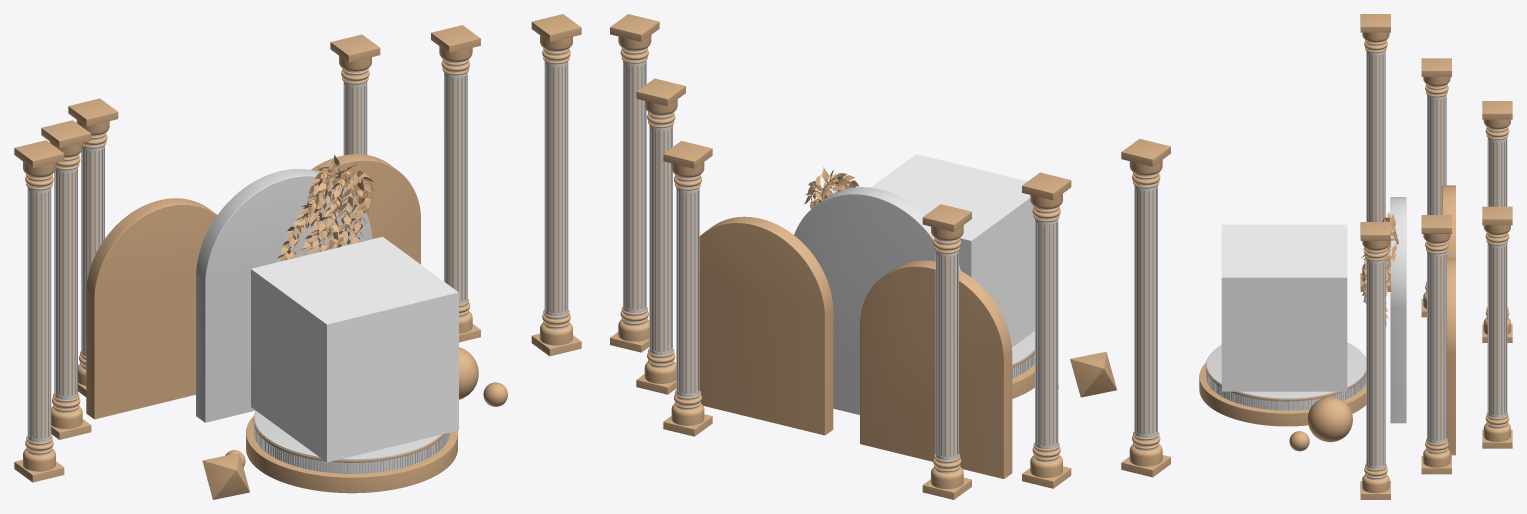
Rendered from podium_roman_scene.glb.
3 views of the same model, side by side, from view 1: azimuth 30°, elevation 25°; view 2: azimuth 150°, elevation 25°; view 3: azimuth 270°, elevation 25° (orthographic). The views are drawn at different scales.
Parts seen in each view (by area): view 1: Pillars, placeholder, Back_Wall_Gold, Back_Wall_White, Plant, Main_Cylinder_Gold, Main_Cylinder_White, Pyramid, Sphere_1, Main_Ring_Gold; view 2: Pillars, Back_Wall_Gold, Back_Wall_White, placeholder, Pyramid, Plant, Main_Cylinder_White; view 3: Pillars, placeholder, Back_Wall_White, Main_Cylinder_White, Back_Wall_Gold, Main_Cylinder_Gold, Sphere_1, Plant, Main_Ring_Gold.
Boxes of the visible parts, left/top/right/bottom form: Pillars: left=14, top=14, right=581, bottom=482; placeholder: left=251, top=236, right=458, bottom=462; Back_Wall_Gold: left=86, top=154, right=420, bottom=419; Back_Wall_White: left=196, top=169, right=372, bottom=422; Plant: left=276, top=154, right=374, bottom=262; Main_Cylinder_Gold: left=246, top=416, right=457, bottom=493; Main_Cylinder_White: left=254, top=411, right=449, bottom=473; Pyramid: left=202, top=453, right=249, bottom=499; Sphere_1: left=459, top=347, right=478, bottom=399; Main_Ring_Gold: left=253, top=411, right=445, bottom=462; Pillars: left=610, top=14, right=1170, bottom=499; Back_Wall_Gold: left=699, top=216, right=1012, bottom=478; Back_Wall_White: left=794, top=187, right=960, bottom=414; placeholder: left=871, top=154, right=1034, bottom=347; Pyramid: left=1070, top=352, right=1116, bottom=397; Plant: left=804, top=167, right=859, bottom=208; Main_Cylinder_White: left=1012, top=331, right=1034, bottom=378; Pillars: left=1360, top=14, right=1512, bottom=499; placeholder: left=1221, top=224, right=1347, bottom=391; Back_Wall_White: left=1390, top=197, right=1406, bottom=423; Main_Cylinder_White: left=1206, top=342, right=1366, bottom=410; Back_Wall_Gold: left=1442, top=185, right=1455, bottom=455; Main_Cylinder_Gold: left=1199, top=363, right=1366, bottom=426; Sphere_1: left=1307, top=397, right=1352, bottom=442; Plant: left=1361, top=212, right=1398, bottom=326; Main_Ring_Gold: left=1206, top=357, right=1366, bottom=401.
Bounding box in the file's own units: 3.09 × 1.73 × 1.85.
